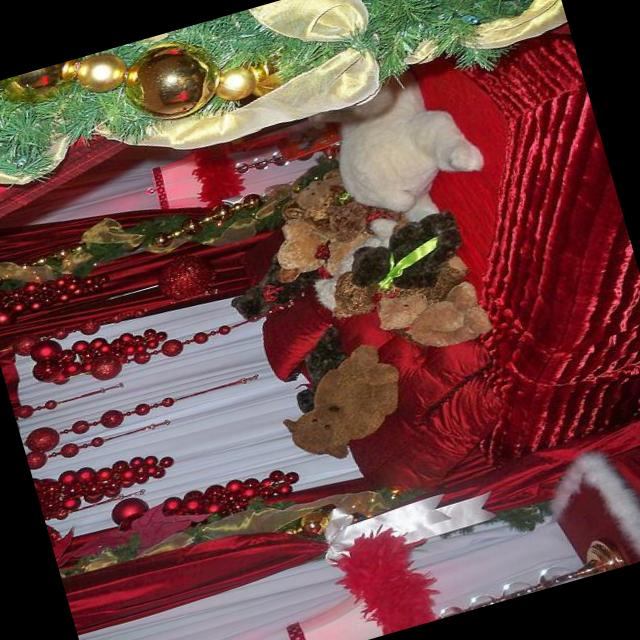bed: (252, 18, 640, 516)
teddy bear: (317, 52, 488, 224), (313, 207, 486, 366), (265, 338, 418, 472), (340, 208, 472, 308), (264, 194, 386, 294), (373, 272, 494, 362), (302, 167, 403, 247), (222, 256, 310, 326), (293, 171, 350, 217), (308, 263, 343, 311)
